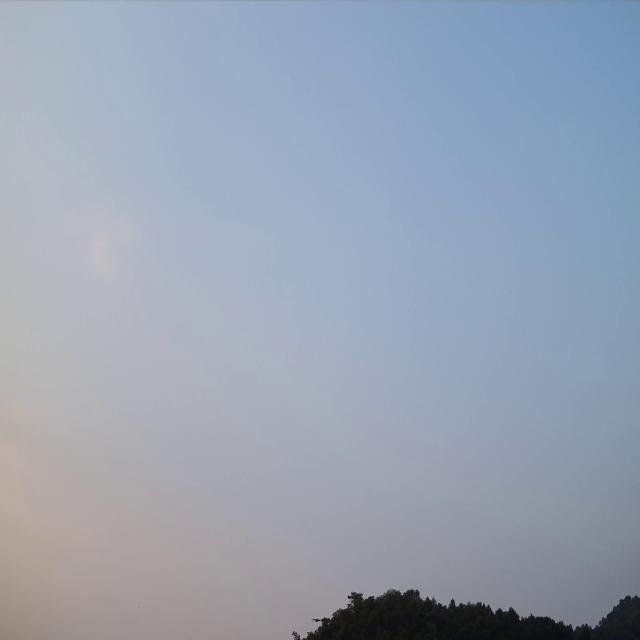UAV: (310, 615, 324, 626)
